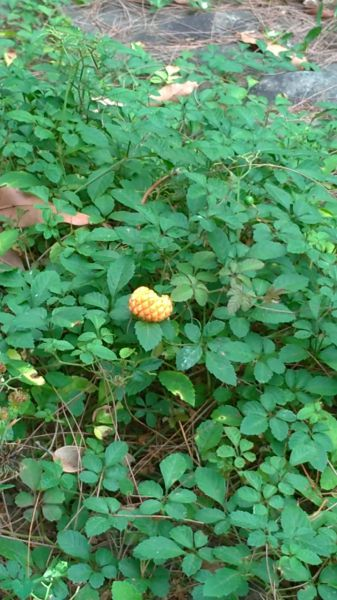eggs: (124, 281, 177, 325)
